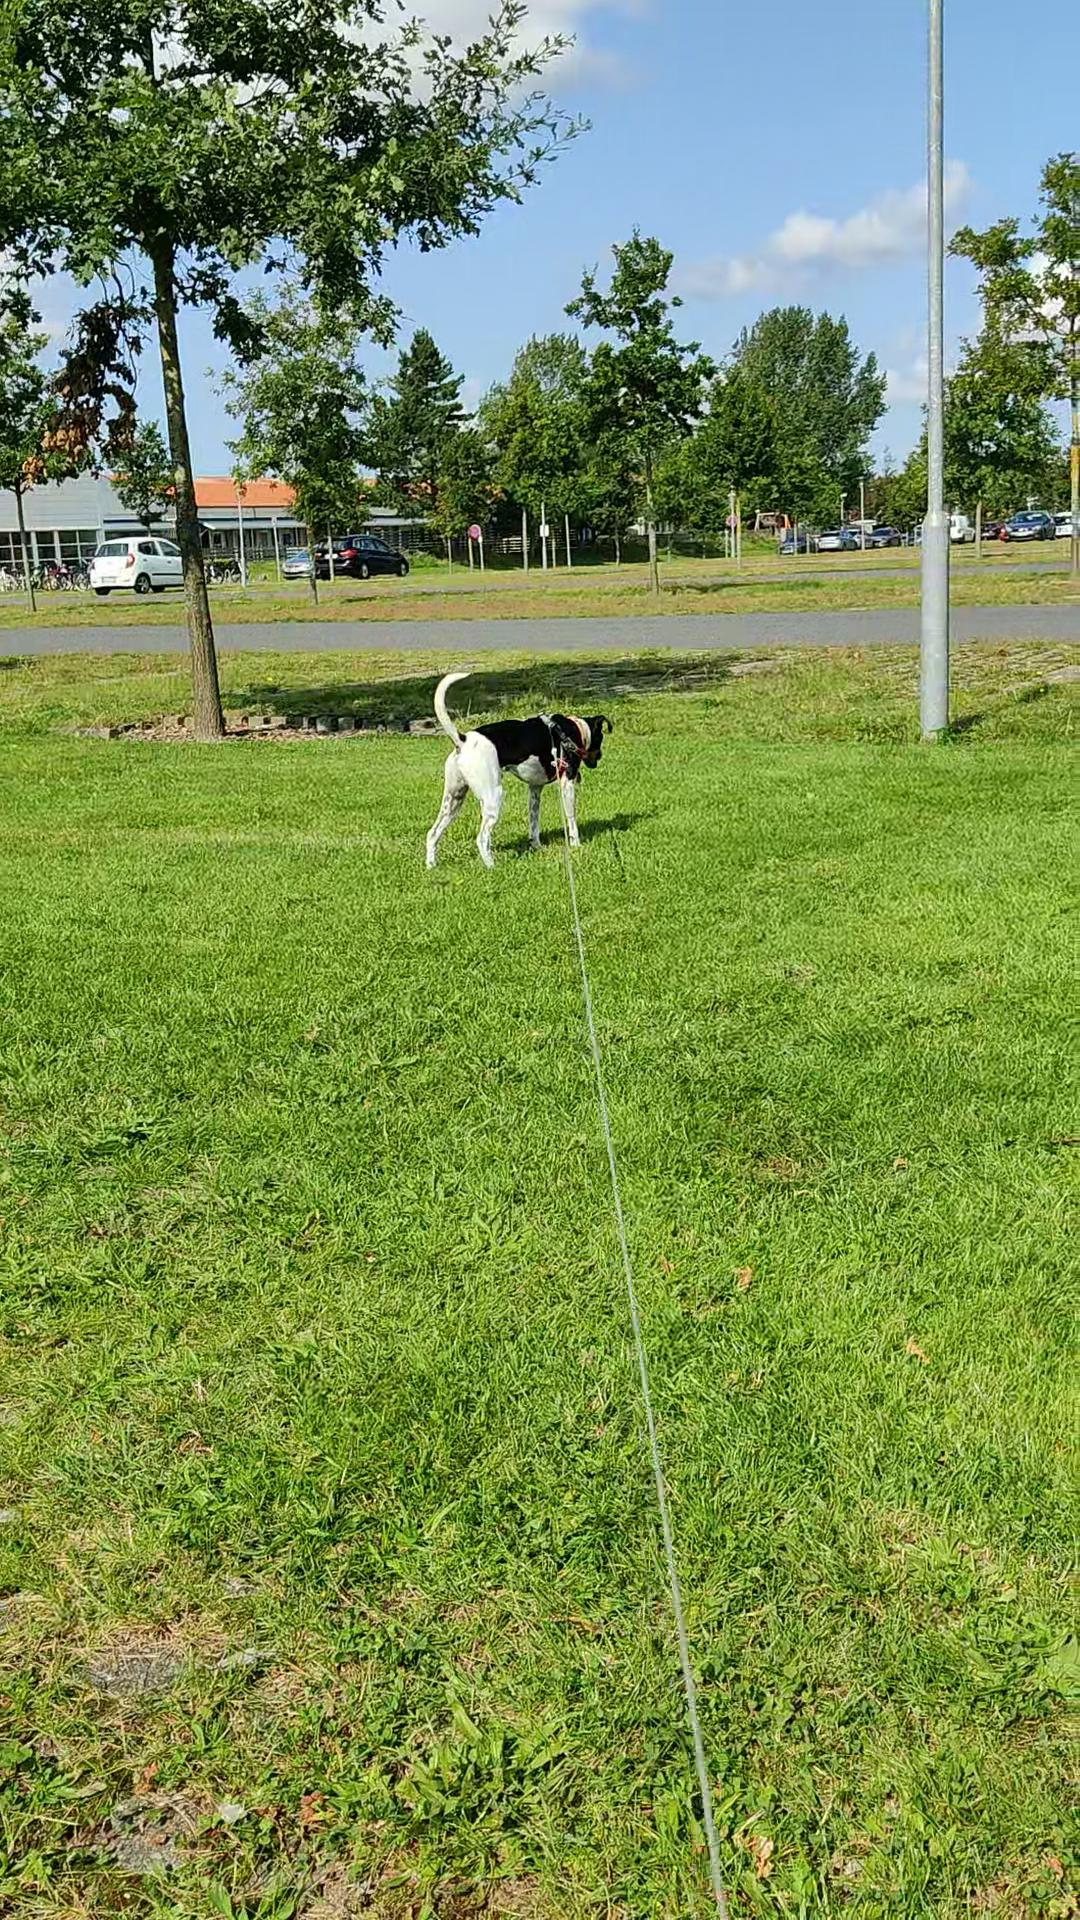Dog: (413, 666, 616, 876)
